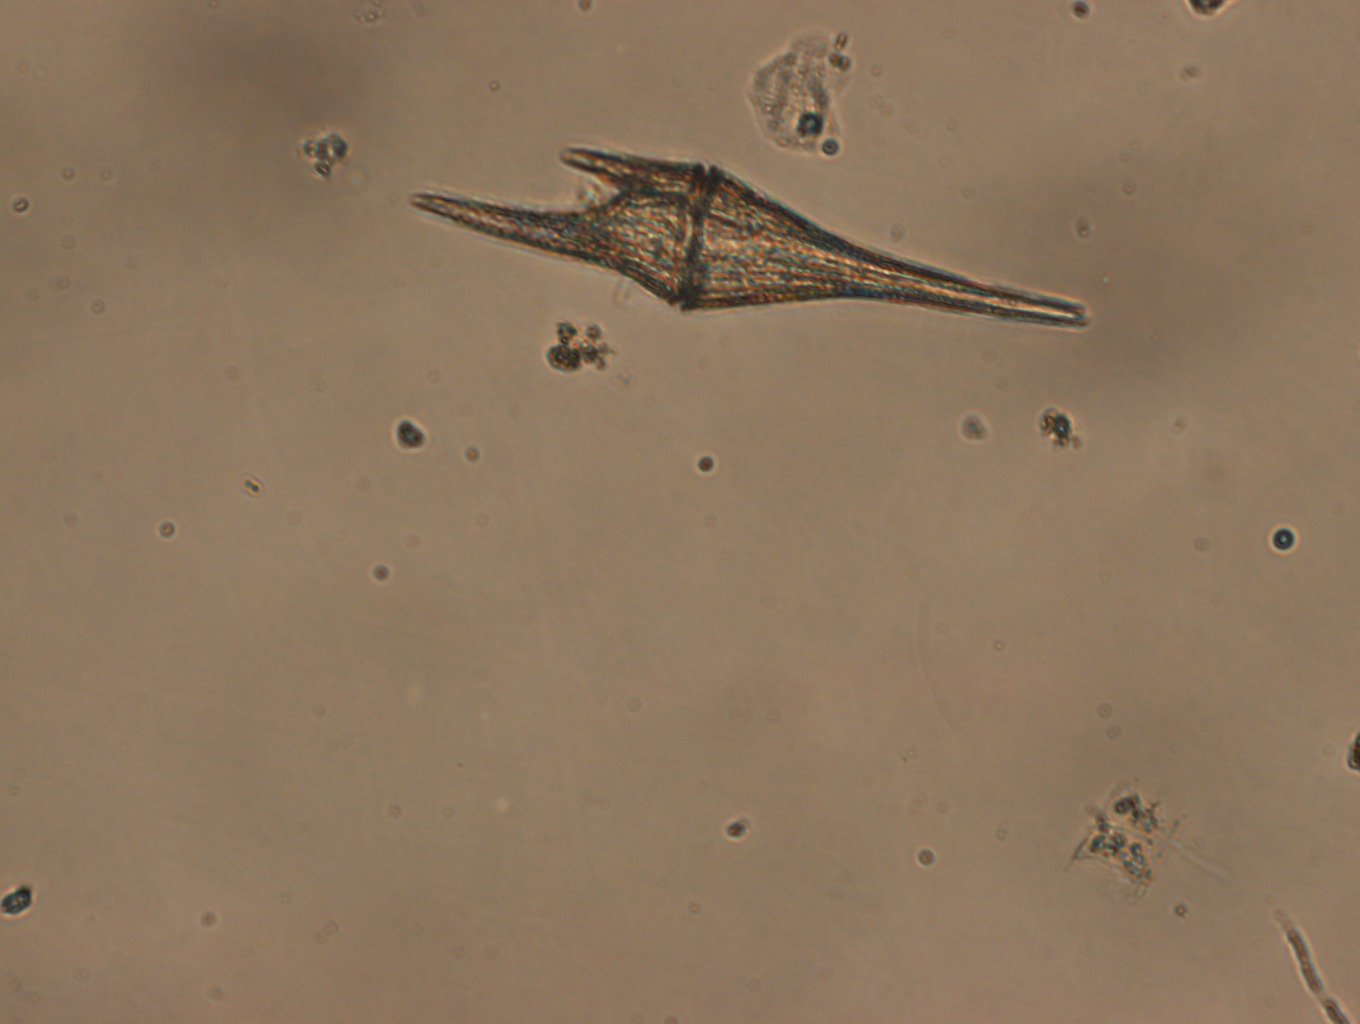ceratium furca: (409, 146, 1085, 328)
